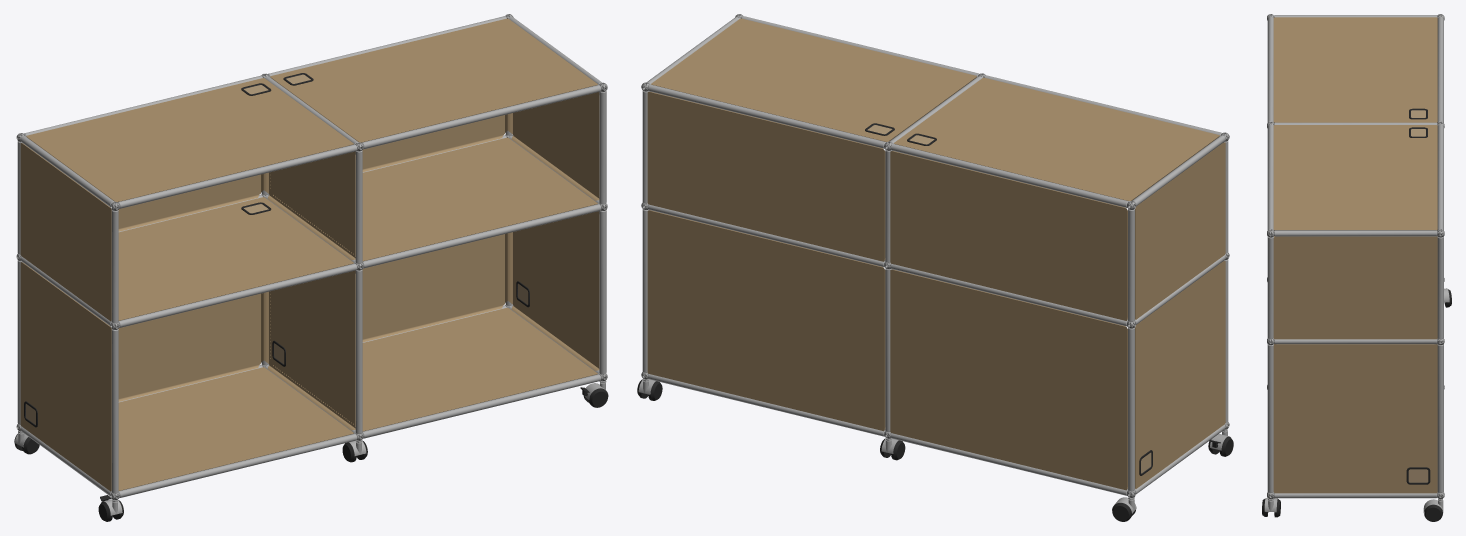
3 renders of one model, left to right at view 1: azimuth 30°, elevation 25°; view 2: azimuth 150°, elevation 25°; view 3: azimuth 270°, elevation 25°, orthographic. The views are drawn at different scales.
Parts seen in each view (by area): view 1: Polygons3D (×47); view 2: Polygons3D (×31); view 3: Polygons3D (×22).
Part boxes in pixels (x1,y1,x2,y2): Polygons3D (×47): (20,16,606,498); Polygons3D (×31): (642,16,1225,495); Polygons3D (×22): (1267,15,1443,521).
Size of the model in its own units: 1552 by 941 by 560.
5 materials, 2 textured.
